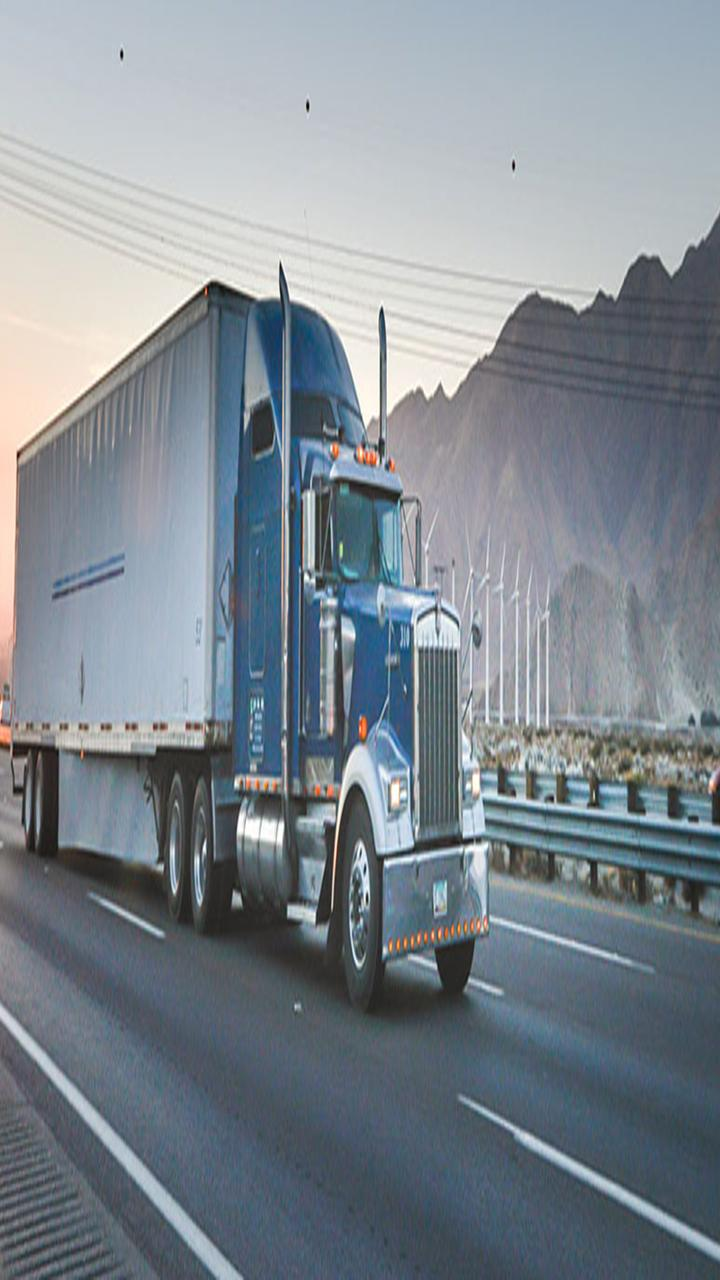vehicle: (12, 248, 492, 1044)
